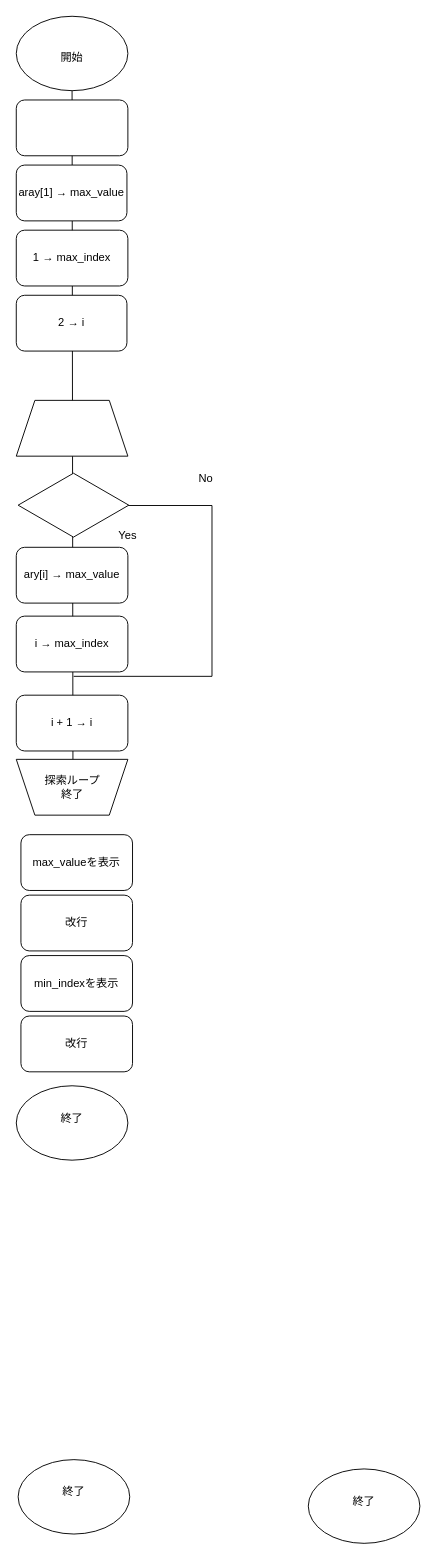
Some shapes in this 436 by 1560 pixel diagram are drawn without their labels. Here are the shapes that lost their labels. From the top down, the centre of each, then its label:
the point at 71,127: 配列aryを宣言し、初期化
the point at 71,427: 探索ループ開始 i > len(array)
the point at 73,504: max_value < ary[i]
